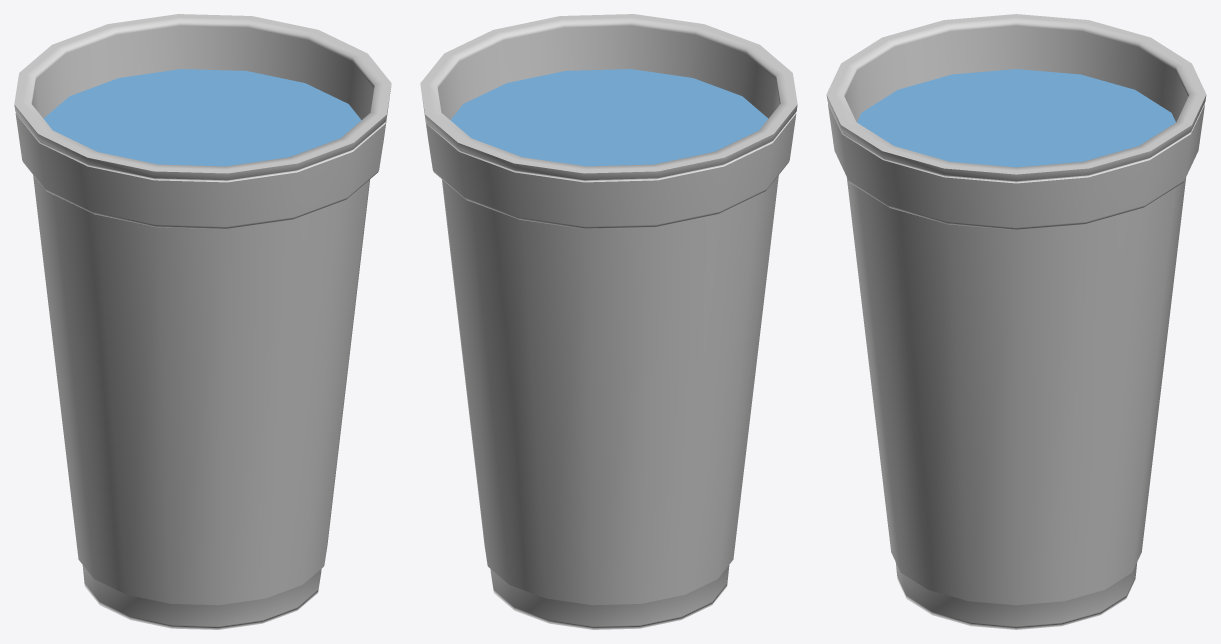
The model's file is SM_CharcoalInWater.fbx.
3 views of the same model, side by side, from view 1: azimuth 30°, elevation 25°; view 2: azimuth 150°, elevation 25°; view 3: azimuth 270°, elevation 25° (orthographic).
Parts seen in each view (by area): view 1: Cup, Water; view 2: Cup, Water; view 3: Cup, Water.
Boxes of the visible parts, x1=… form: Cup: x1=14, y1=14, x2=391, y2=629; Water: x1=43, y1=69, x2=361, y2=166; Cup: x1=420, y1=14, x2=797, y2=629; Water: x1=450, y1=69, x2=768, y2=166; Cup: x1=826, y1=14, x2=1206, y2=629; Water: x1=857, y1=69, x2=1175, y2=167.
Bounding box in the file's own units: 0.1129 × 0.1592 × 0.1129.
